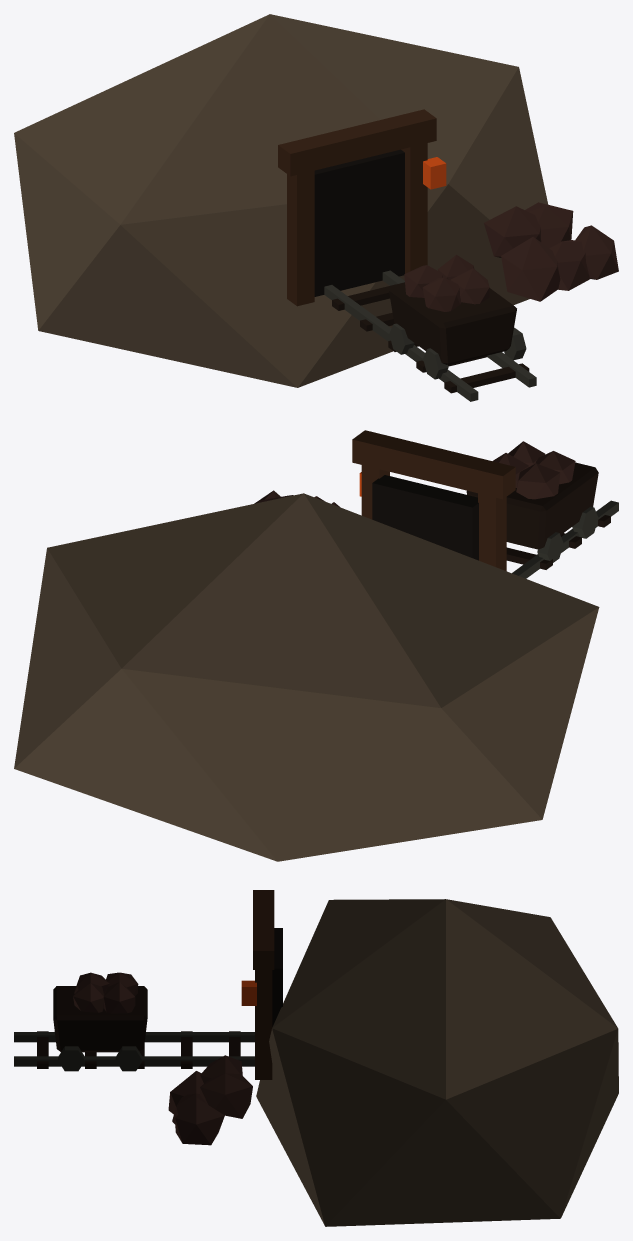
File: mine.obj
3 views of the same model, one above another, from view 1: azimuth 30°, elevation 25°; view 2: azimuth 150°, elevation 25°; view 3: azimuth 270°, elevation 25° (orthographic). The views are drawn at different scales.
Parts seen in each view (by area): view 1: core_rock, core_iron, core_wood, core_black, core_wood_dark, core_metal_dark, core_fire; view 2: core_rock, core_wood, core_black, core_wood_dark, core_iron, core_metal_dark; view 3: core_rock, core_iron, core_wood_dark, core_metal_dark, core_wood, core_black.
Boxes of the visible parts, left/top/right/bottom form: core_rock: left=14, top=14, right=548, bottom=387; core_iron: left=404, top=202, right=618, bottom=311; core_wood: left=278, top=109, right=436, bottom=306; core_black: left=314, top=149, right=404, bottom=296; core_wood_dark: left=332, top=282, right=529, bottom=393; core_metal_dark: left=324, top=270, right=536, bottom=401; core_fire: left=423, top=157, right=446, bottom=189; core_rock: left=14, top=493, right=599, bottom=861; core_wood: left=352, top=430, right=515, bottom=571; core_black: left=372, top=475, right=478, bottom=560; core_wood_dark: left=466, top=462, right=610, bottom=569; core_iron: left=254, top=441, right=575, bottom=506; core_metal_dark: left=512, top=500, right=618, bottom=578; core_rock: left=256, top=899, right=618, bottom=1226; core_iron: left=73, top=972, right=252, bottom=1145; core_wood_dark: left=37, top=986, right=240, bottom=1068; core_metal_dark: left=14, top=1032, right=254, bottom=1071; core_wood: left=253, top=890, right=274, bottom=1079; core_black: left=272, top=928, right=282, bottom=1026.
Bounding box in the file's own units: 0.4933 × 0.3338 × 0.6301.
